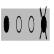correct: (3, 12, 10, 35)
not correct: (39, 4, 48, 42)
